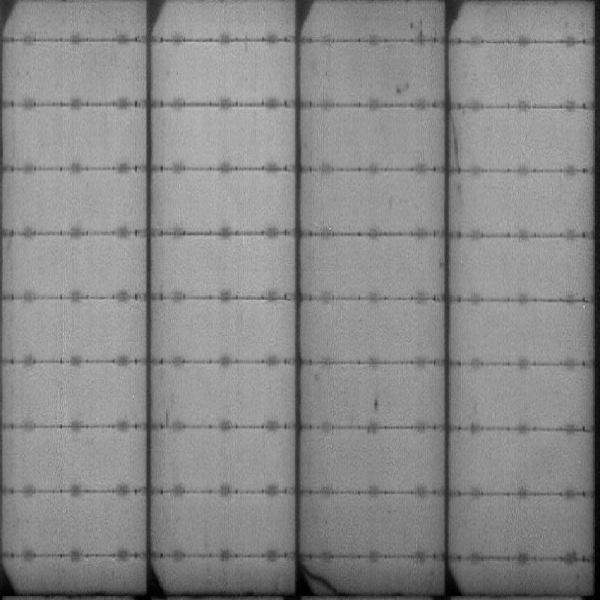scratch: (449, 108, 464, 168), (311, 572, 346, 594)
